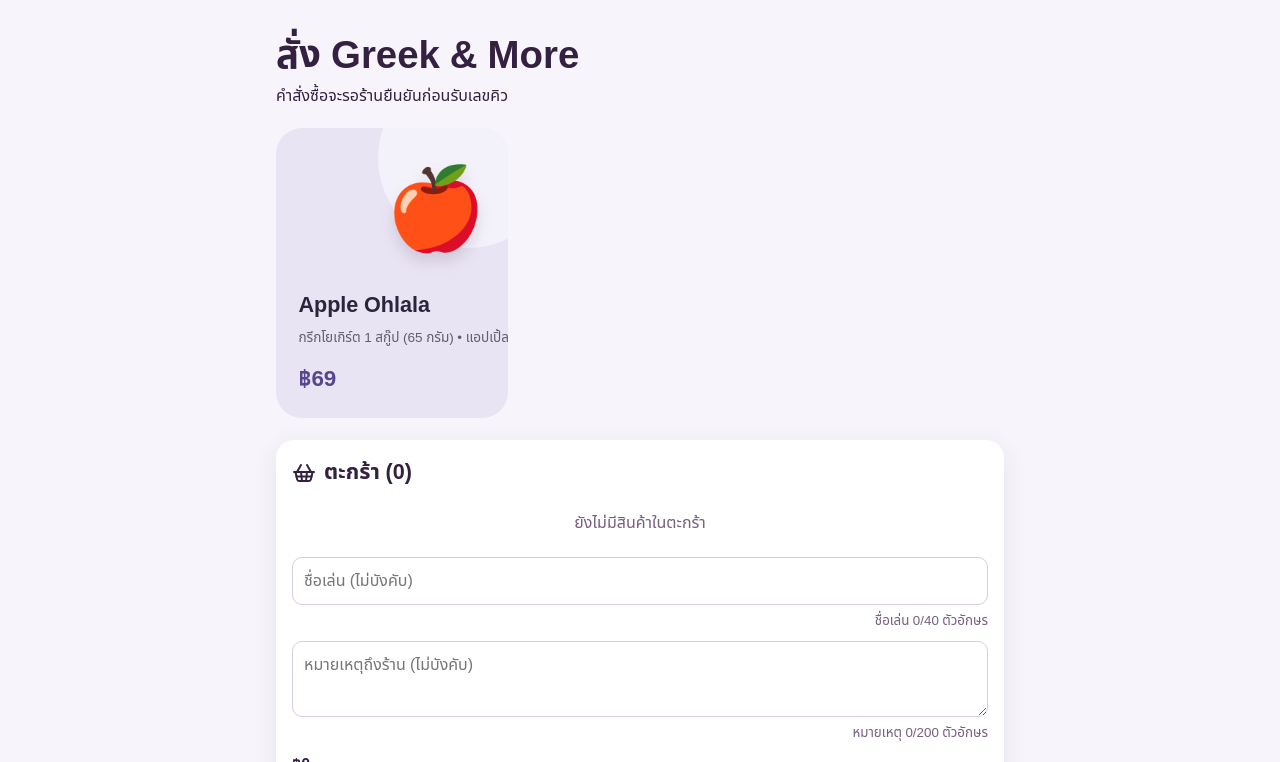
Test: manual UAT defect regressions › edits customer topping options in place and renders the updated configuration
Click the button "🍎 Apple Ohlala กรีกโยเกิร์ต 1 สกู๊ป (65 กรัม) • แอปเปิ้ล ฿69" at (392, 273), box x1=276 y1=128 x2=508 y2=418
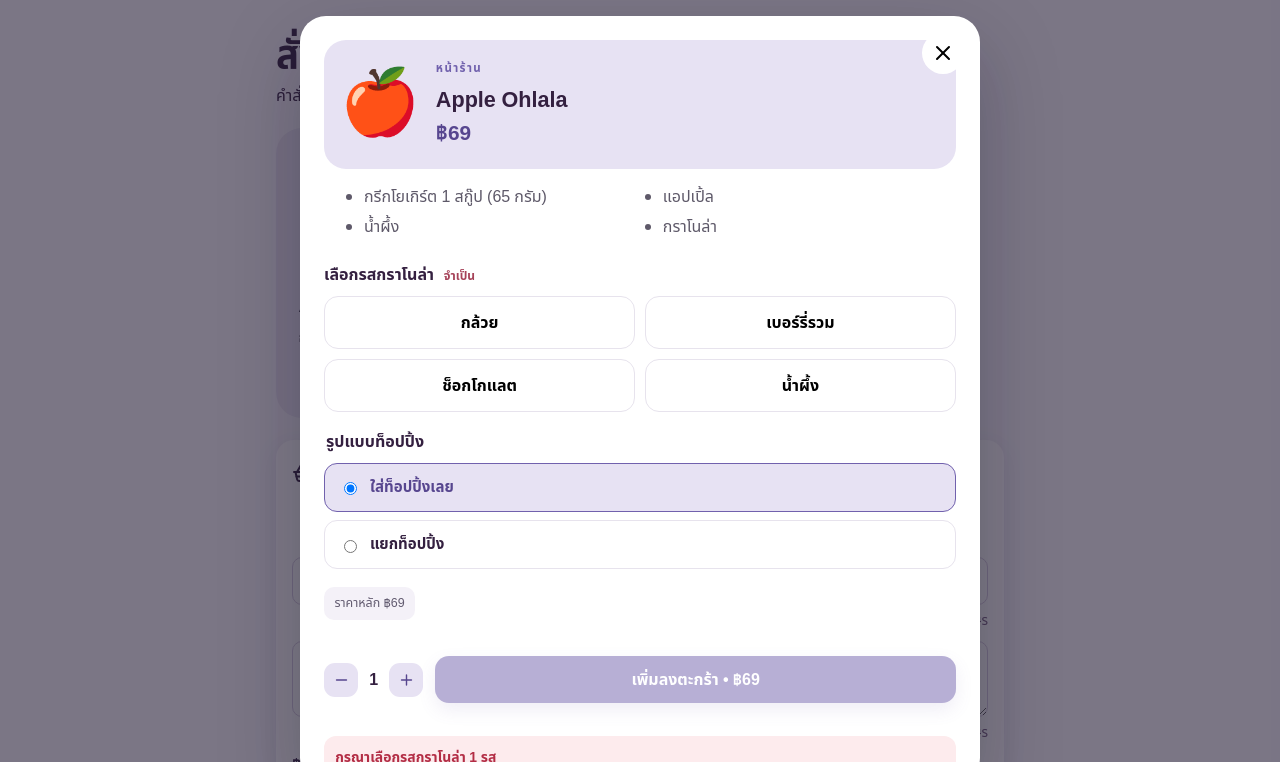
Click the button "กล้วย" at (480, 323), box x1=324 y1=296 x2=635 y2=349
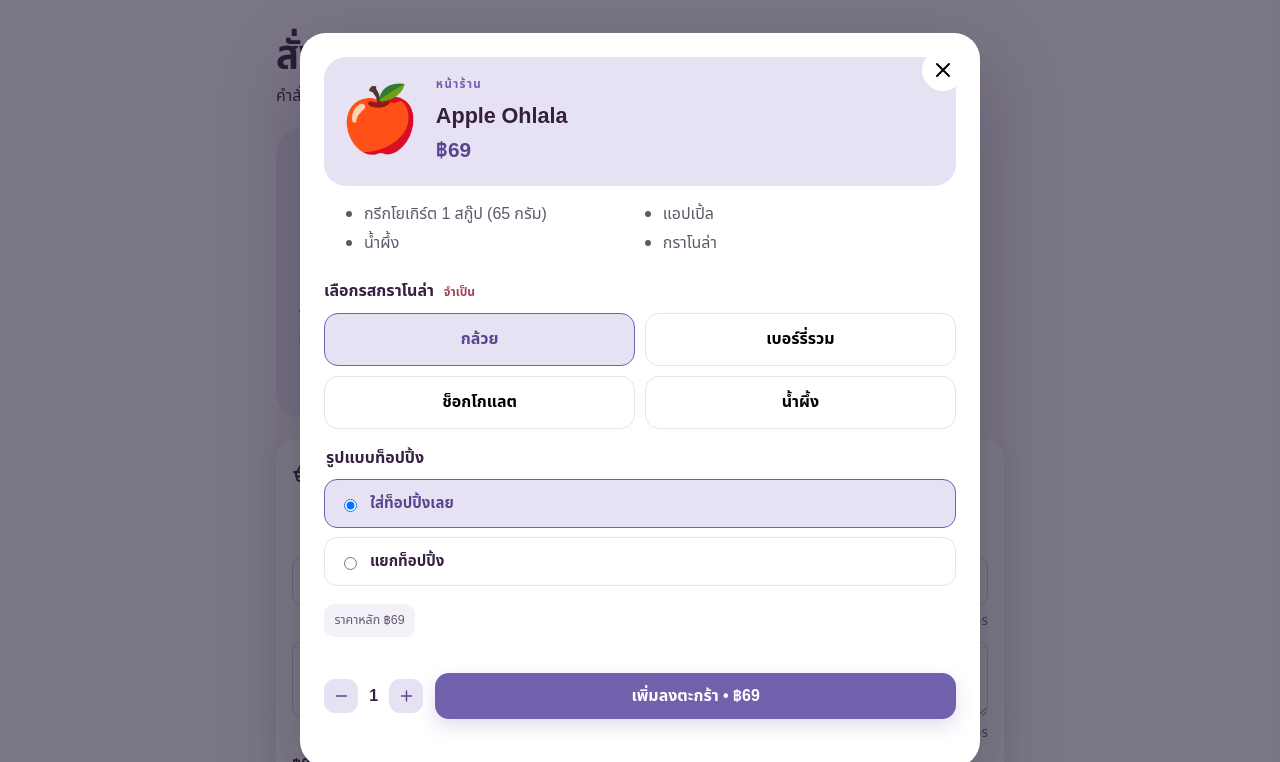
Click the button "เพิ่มลงตะกร้า • ฿69" at (696, 696), box x1=435 y1=673 x2=956 y2=719
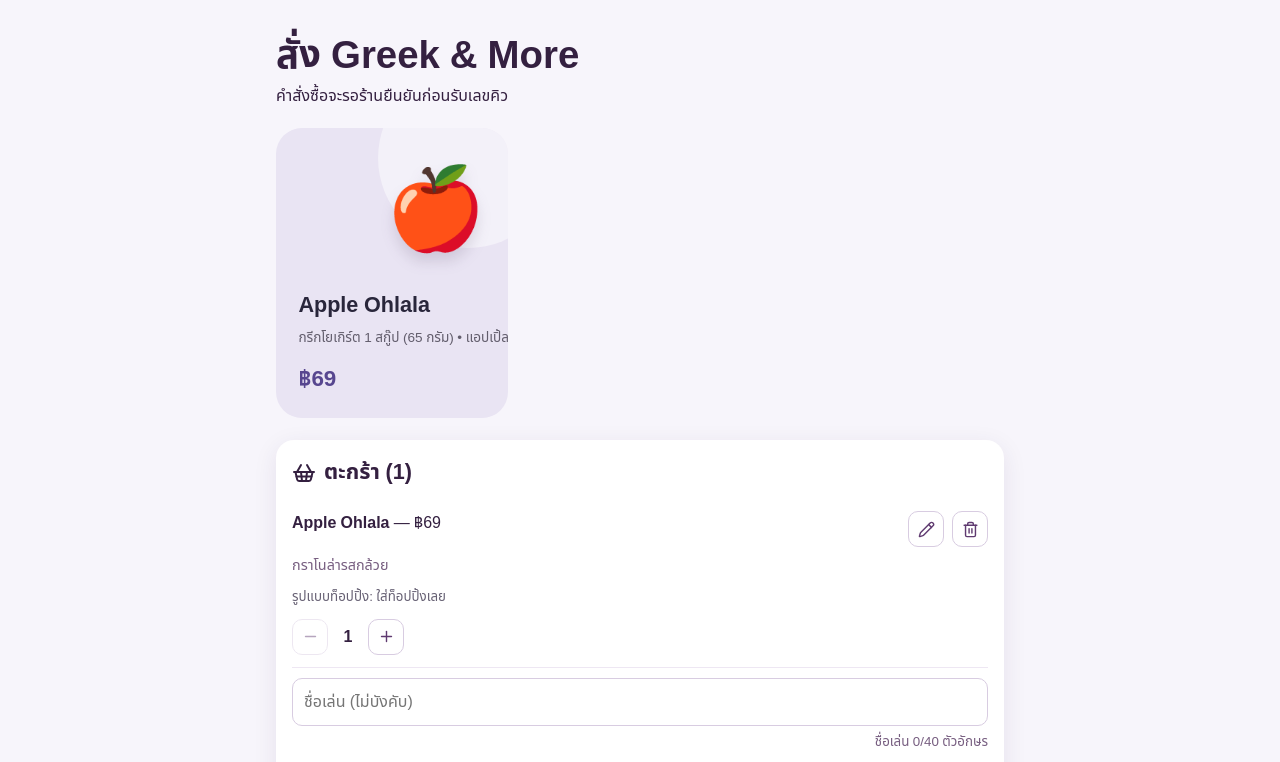
Result: the text with class "customer-cart-options" shows "กล้วย" at x1=292 y1=555 x2=388 y2=576
Click the button named "แก้ไข" at (926, 529), box x1=908 y1=511 x2=944 y2=547
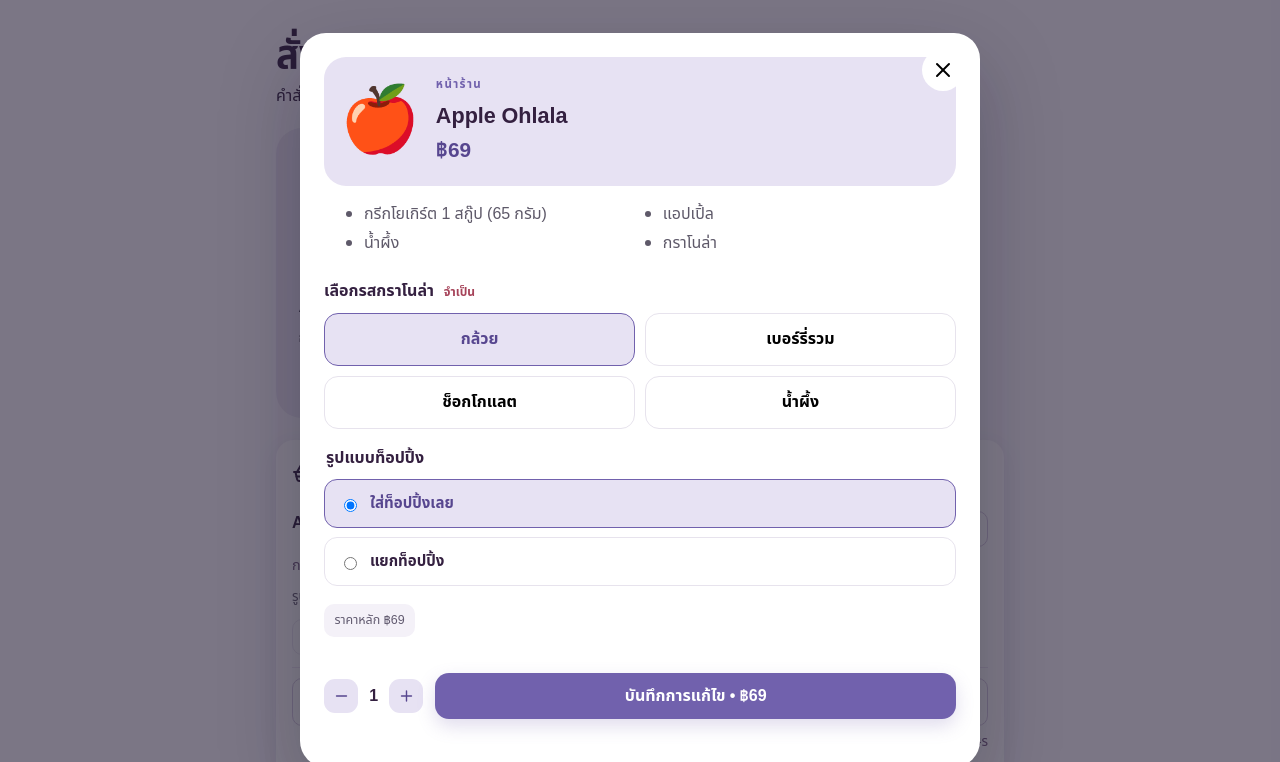
Click the button "เบอร์รี่รวม" at (800, 339), box x1=645 y1=313 x2=956 y2=366
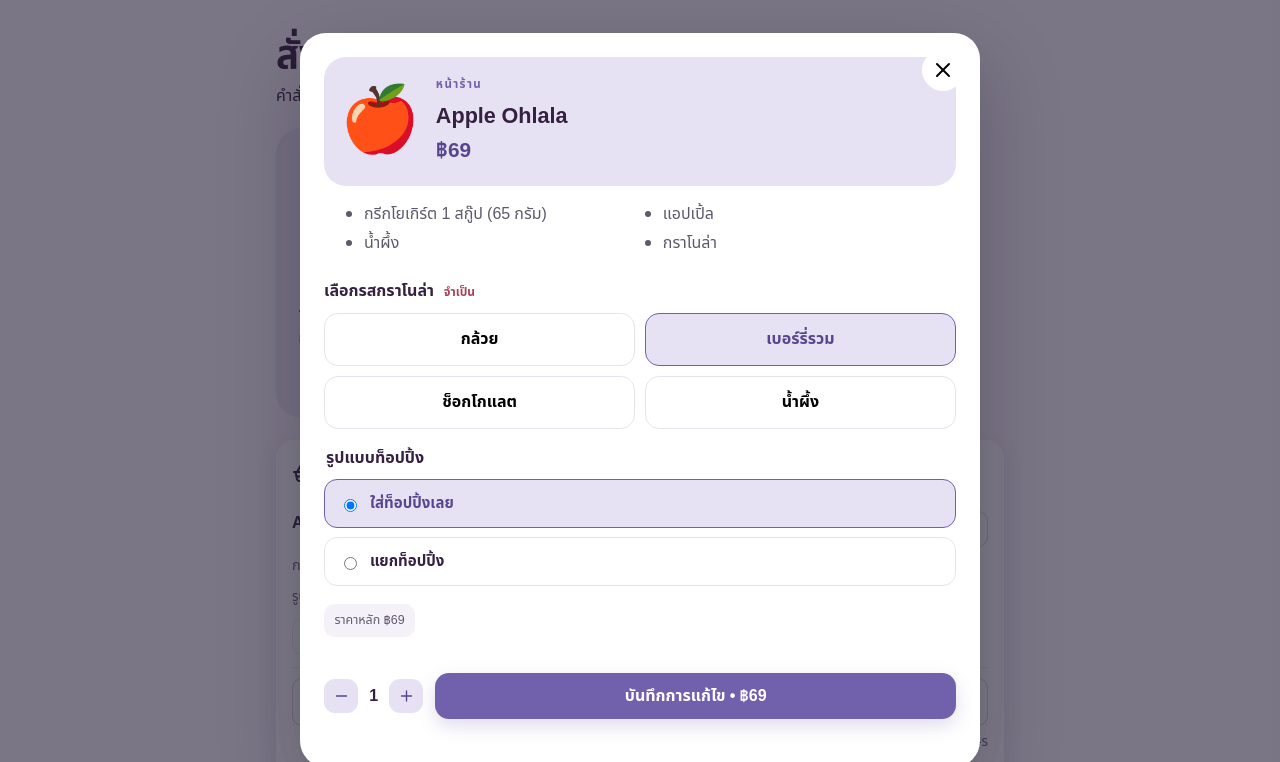
Click the button "บันทึกการแก้ไข • ฿69" at (696, 696), box x1=435 y1=673 x2=956 y2=719
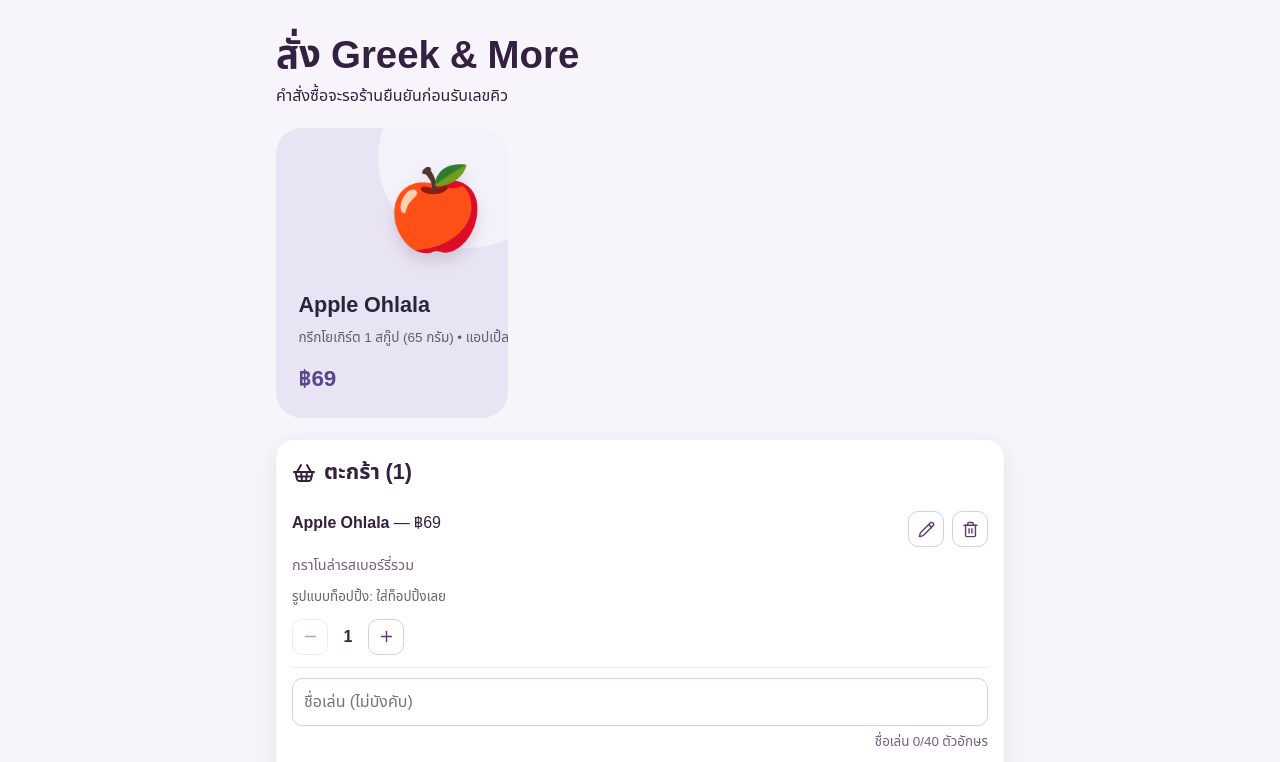
Result: the number of elements with class "customer-cart-line" is 1 at x1=292 y1=499 x2=988 y2=668
Result: the text with class "customer-cart-options" shows "เบอร์รี่รวม" at x1=292 y1=555 x2=414 y2=576
Result: the text with class "customer-cart-options" no longer shows "กล้วย"
